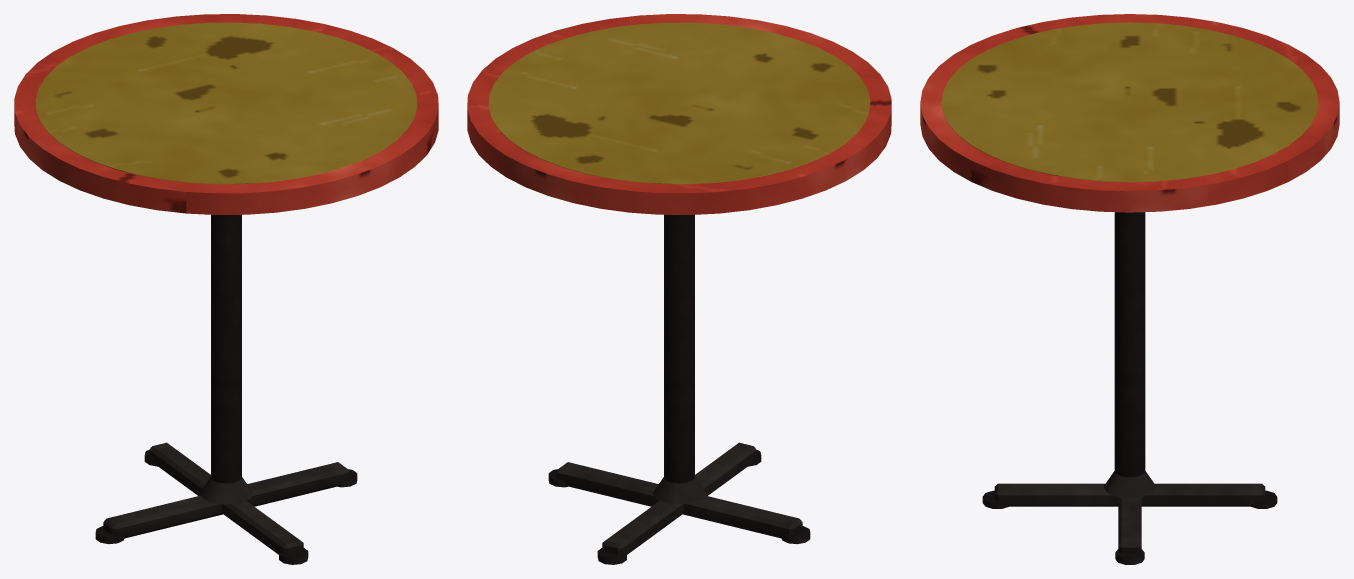
Rendered from table_bar.glb.
3 views of the same model, side by side, from view 1: azimuth 30°, elevation 25°; view 2: azimuth 150°, elevation 25°; view 3: azimuth 270°, elevation 25° (orthographic).
Visible parts, largest first — view 1: table_bar; view 2: table_bar; view 3: table_bar.
Part boxes in pixels (bbox=[...]): table_bar: bbox=[14, 14, 438, 564]; table_bar: bbox=[467, 14, 891, 564]; table_bar: bbox=[920, 14, 1339, 564].
Bounding box in the file's own units: 0.712 × 0.751 × 0.712.
3 materials, 3 textured.
